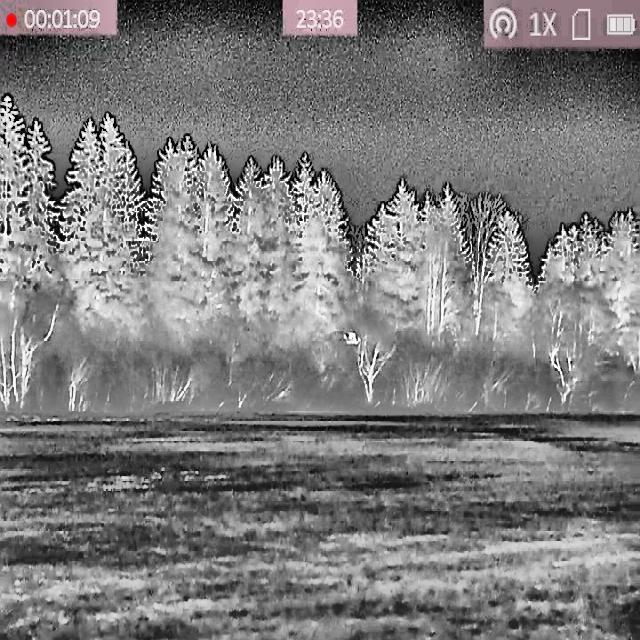drone: (342, 329, 362, 348)
